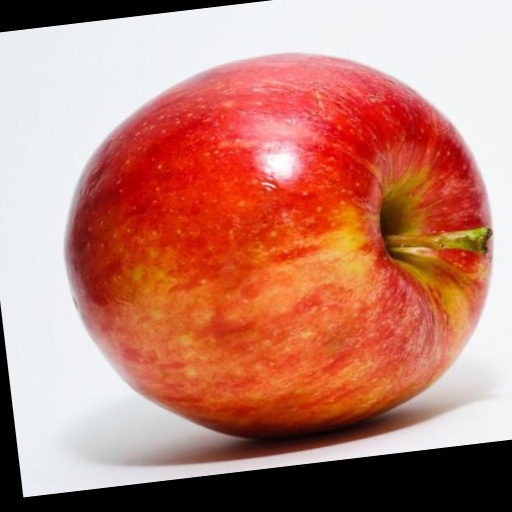fruit: (65, 54, 490, 437)
